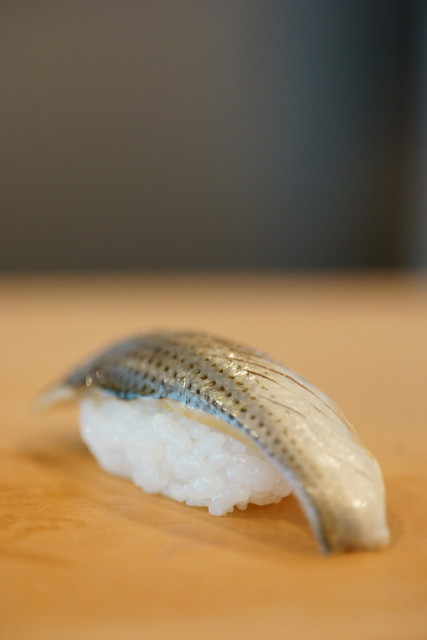spotted-shad: (42, 324, 399, 565)
